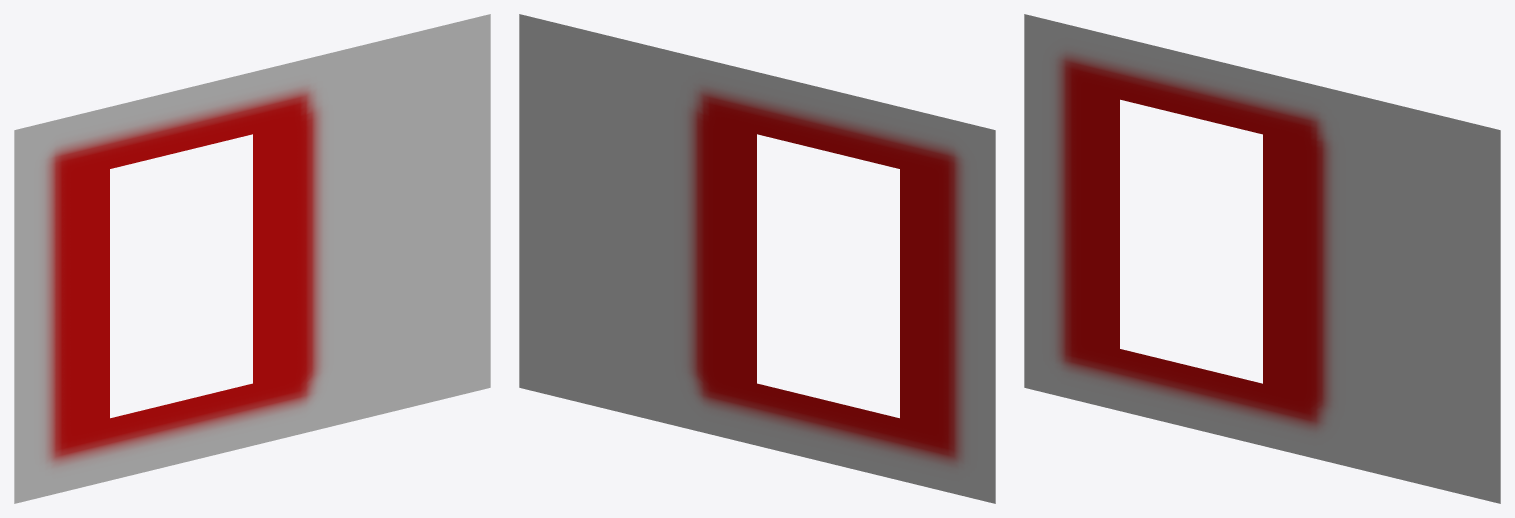
Rendered from wall_window_400x300_09.fbx.
3 renders of one model, left to right at view 1: azimuth 30°, elevation 25°; view 2: azimuth 150°, elevation 25°; view 3: azimuth 330°, elevation 25°, orthographic.
Parts seen in each view (by area): view 1: wall_window_400x300_09; view 2: wall_window_400x300_09; view 3: wall_window_400x300_09.
Boxes of the visible parts, x1,y1,x2,y2 form: wall_window_400x300_09: [14, 14, 490, 503]; wall_window_400x300_09: [519, 14, 995, 503]; wall_window_400x300_09: [1024, 14, 1500, 503].
Bounding box in the file's own units: 4 × 3 × 0.
